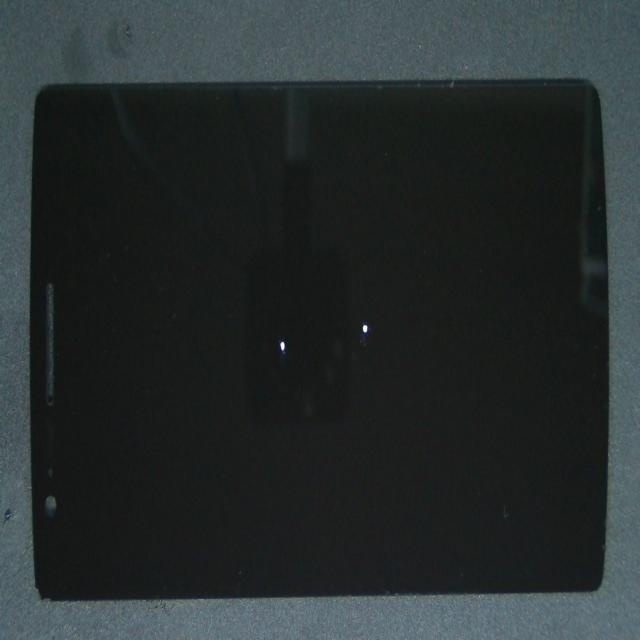stain: (163, 208, 555, 530), (107, 182, 415, 557)
